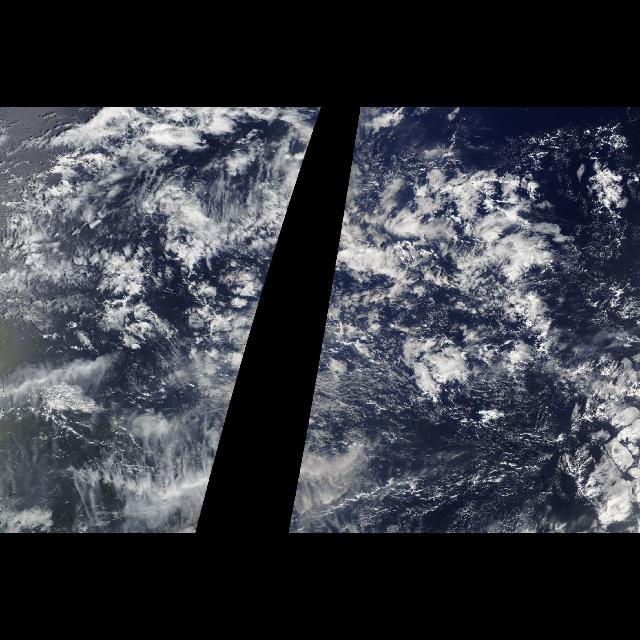Gravel: (372, 198, 560, 424)
Sugar: (381, 437, 559, 529)
